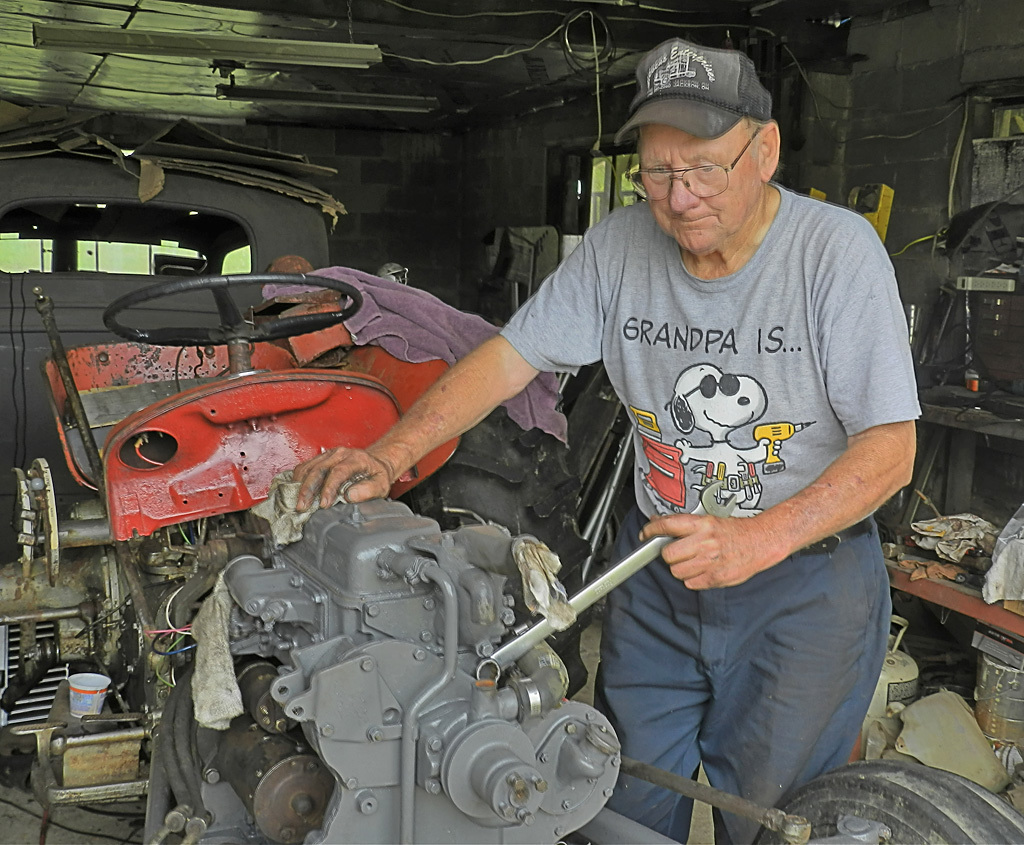Human_hand: (637, 512, 777, 590), (291, 441, 400, 512)
